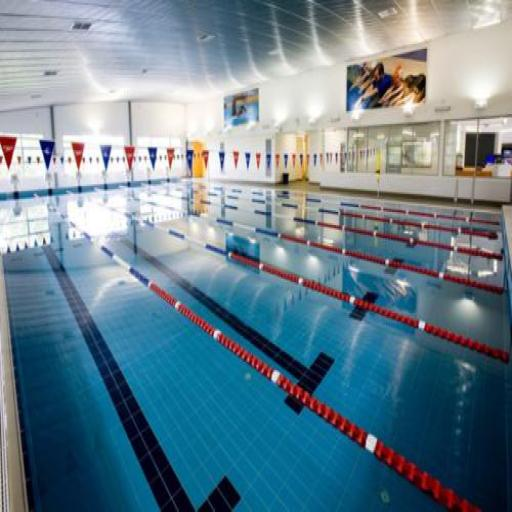swimming: (348, 58, 427, 112)
